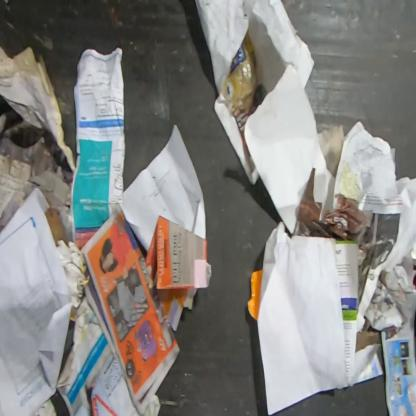cardboard: (44, 207, 68, 247)
